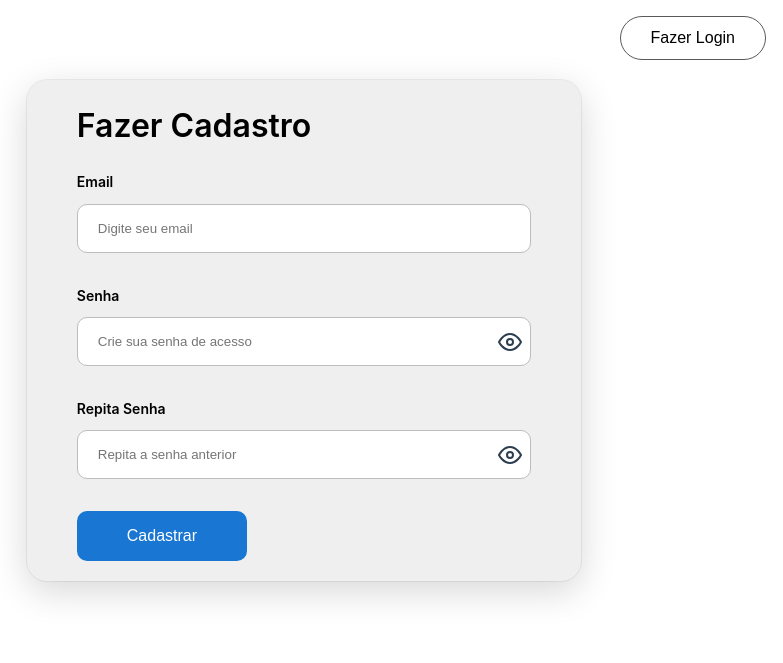
Test case: Teste de Register › Senhas diferentes
Type "123@gmail.com" into the field with id "emailRegister" at [304, 229], box [77,204,531,253]
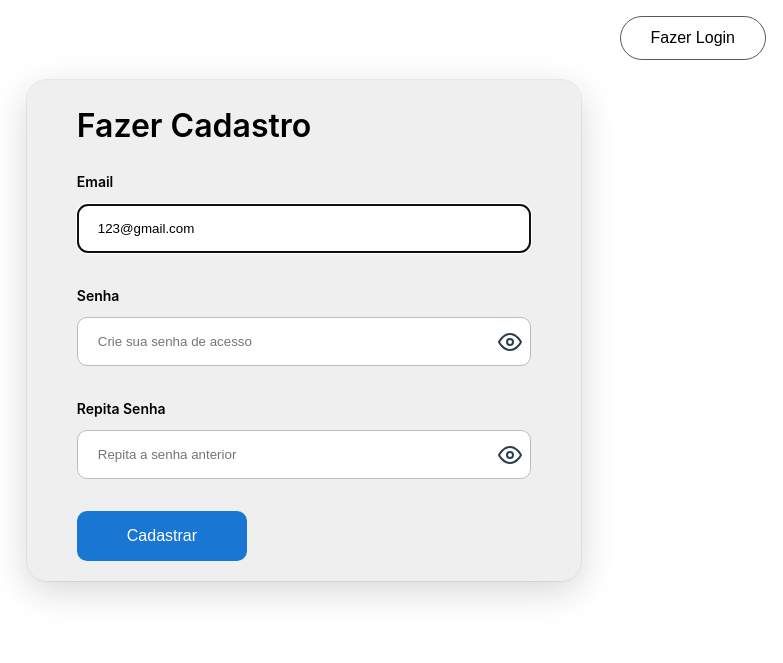
Type "1234" into the password field with placeholder "Crie sua senha de acesso" at [304, 342], box [77,317,531,366]
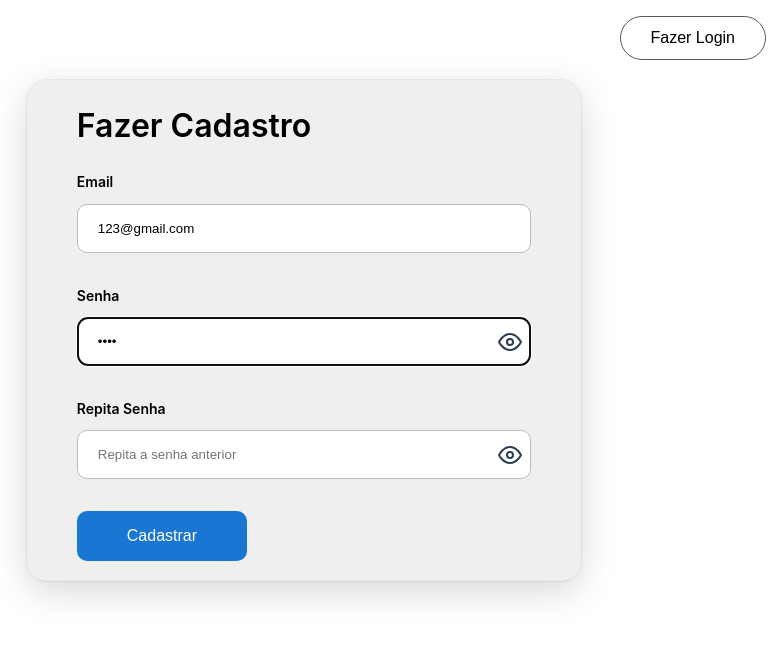
Type "123" into the password field with placeholder "Repita a senha anterior" at [304, 455], box [77,430,531,479]
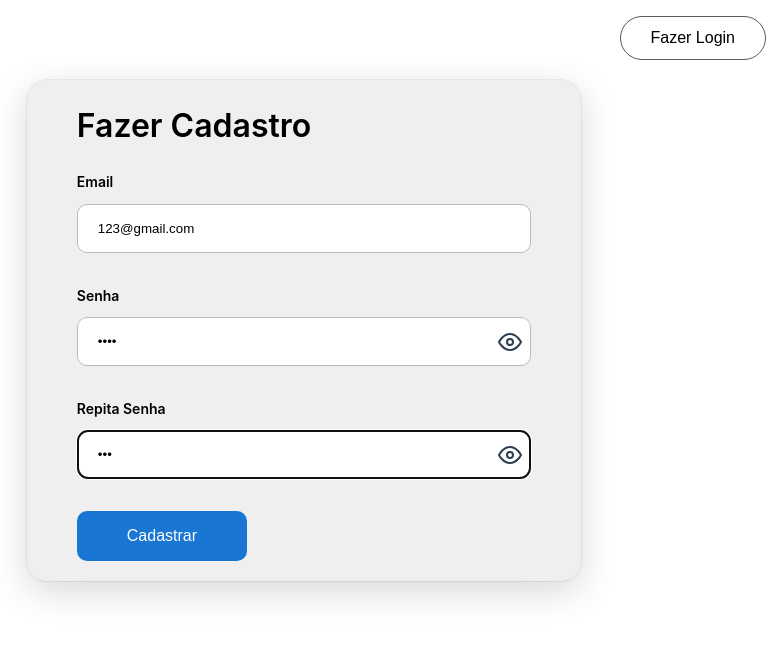
Click the button with id "buttonRegister" at [162, 536], box [77,511,247,561]
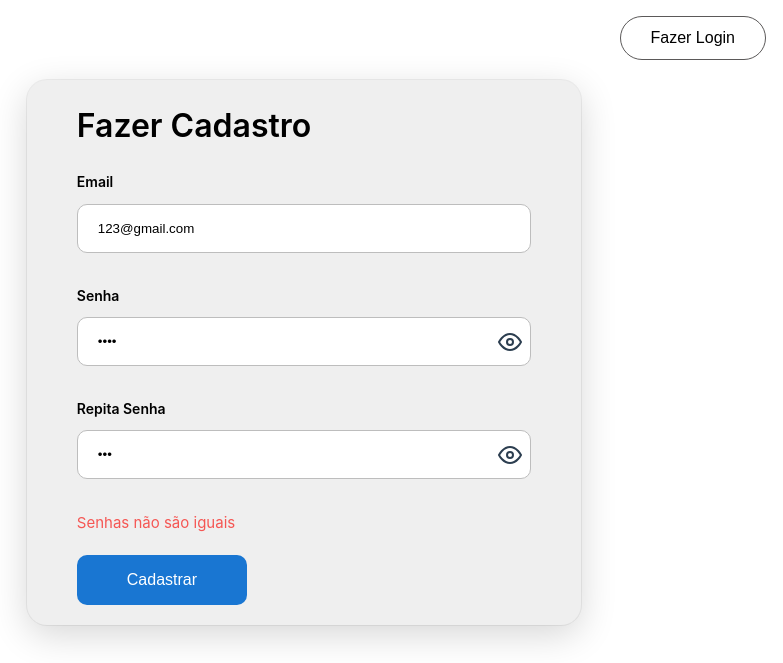
Expected: the text "Senhas não são iguais" is shown, [77,513,235,532]
